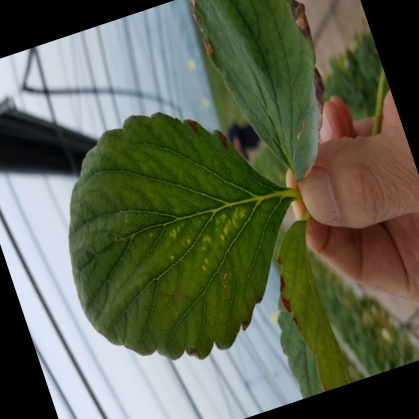Angular_LS: (124, 185, 256, 291)
